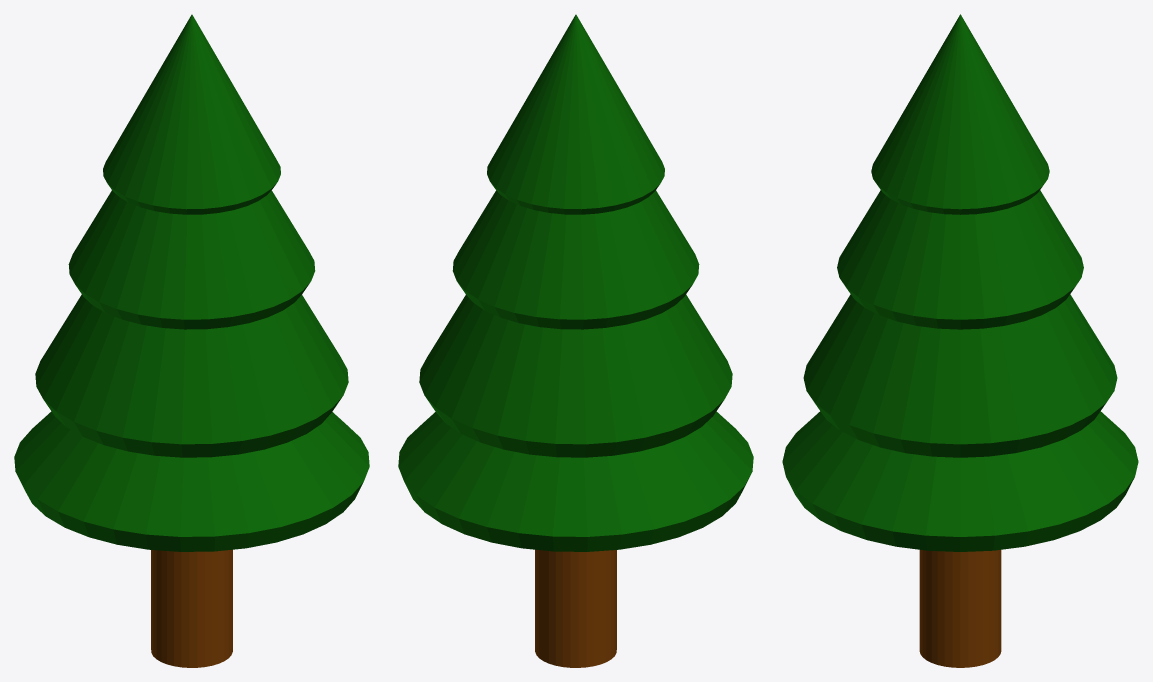
File: Pine Tree.fbx
3 renders of one model, left to right at view 1: azimuth 30°, elevation 25°; view 2: azimuth 150°, elevation 25°; view 3: azimuth 270°, elevation 25°, orthographic.
Visible parts, largest first — view 1: Pine Tree; view 2: Pine Tree; view 3: Pine Tree.
Part boxes in pixels (<box>): Pine Tree: <box>14,14,369,667</box>; Pine Tree: <box>398,14,753,667</box>; Pine Tree: <box>782,14,1138,667</box>.
Size of the model in its own units: 362 by 714 by 362.
